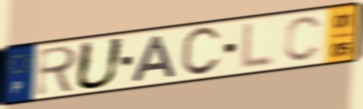A: (128, 33, 179, 84)
C: (179, 25, 224, 79), (281, 14, 325, 64)
L: (238, 20, 276, 72)
R: (34, 43, 80, 98)
U: (72, 36, 128, 92)
